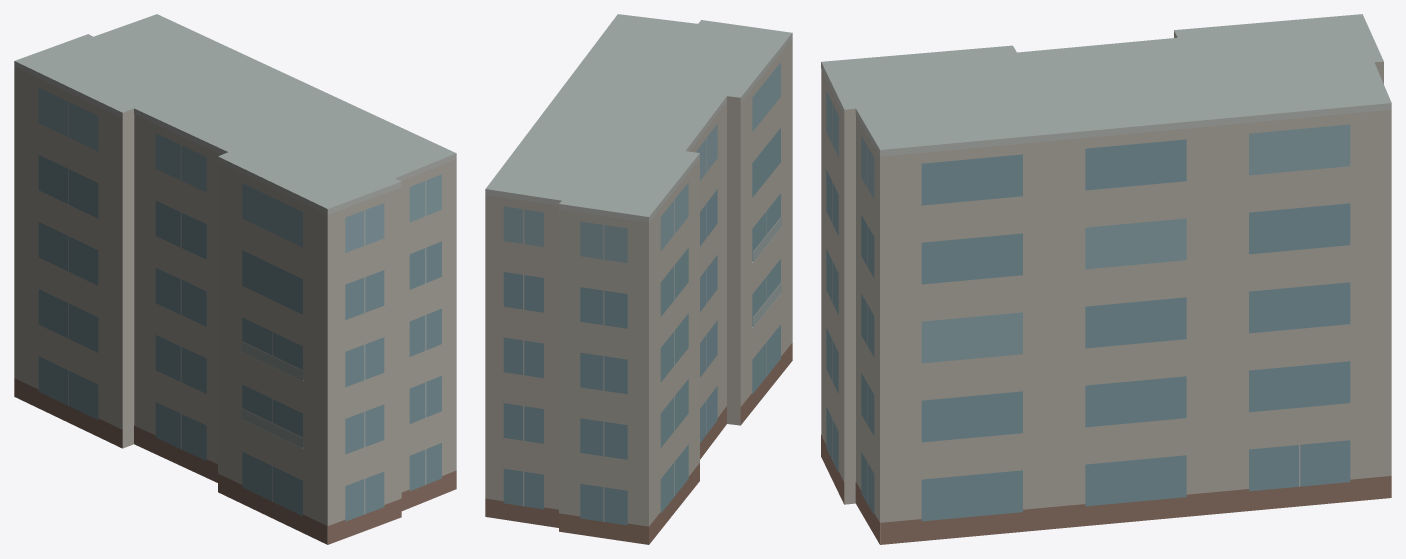
File: survey-upis-32699307.glb
The picture shows the model from 3 angles, left to right: view 1: azimuth 30°, elevation 25°; view 2: azimuth 150°, elevation 25°; view 3: azimuth 270°, elevation 25°; orthographic projection. The views are drawn at different scales.
Parts seen in each view (by area): view 1: survey-upis-32699307.tmp; view 2: survey-upis-32699307.tmp; view 3: survey-upis-32699307.tmp.
Part boxes in pixels (<box>): survey-upis-32699307.tmp: <box>14,14,456,544</box>; survey-upis-32699307.tmp: <box>485,14,792,544</box>; survey-upis-32699307.tmp: <box>821,14,1391,544</box>.
Bounding box in the file's own units: 10.65 × 14.4 × 18.87.
